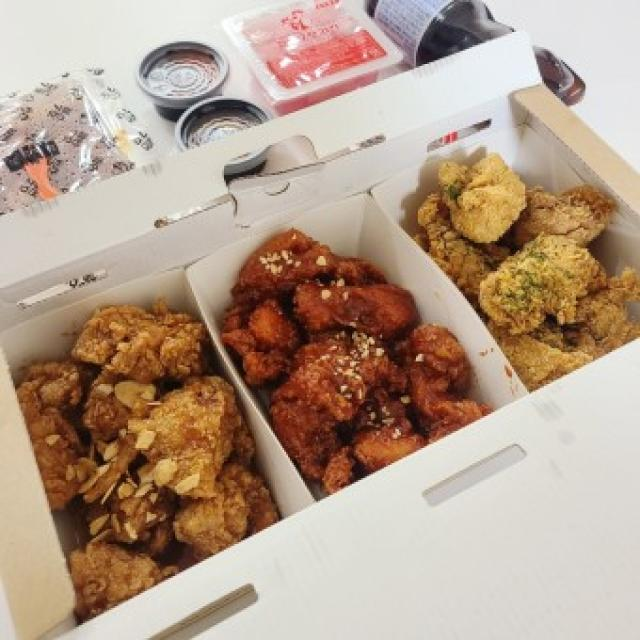Frango: (244, 225, 480, 484), (448, 118, 640, 377)
